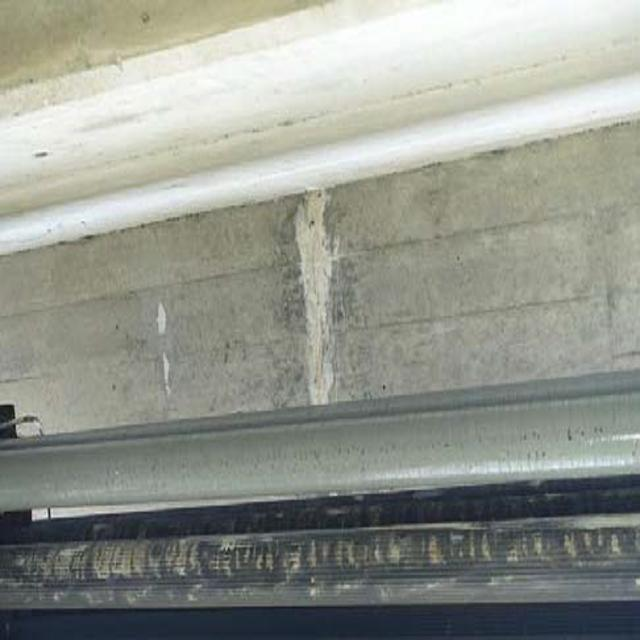freelime: (284, 188, 367, 403)
